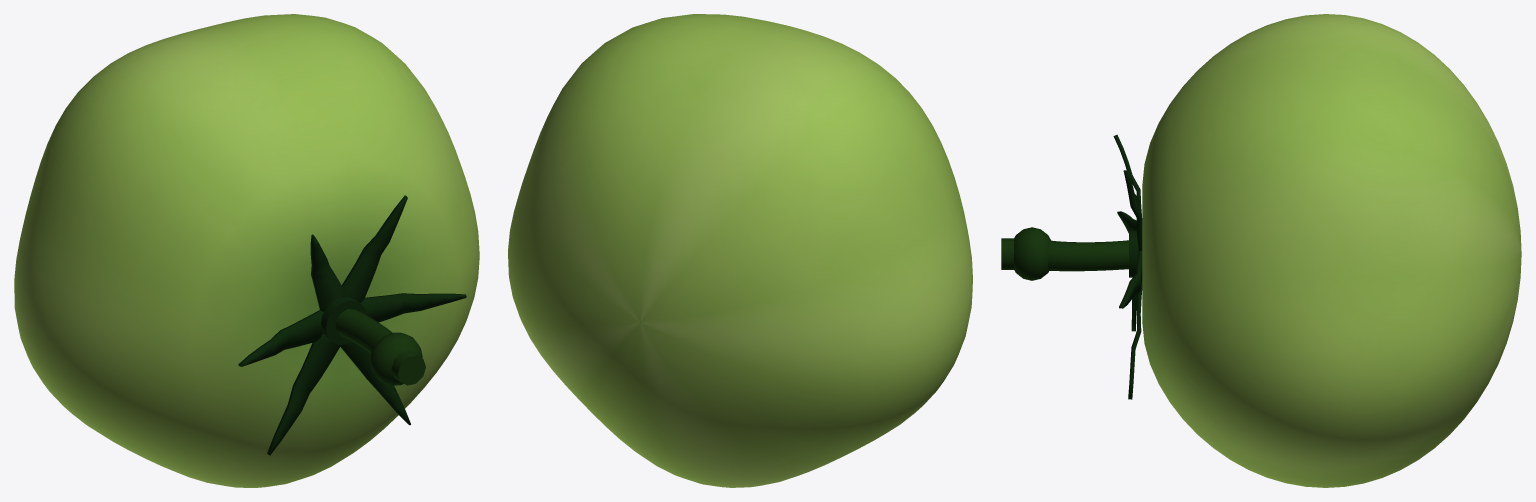
Rendered from tomato_green.obj.
The picture shows the model from 3 angles, left to right: view 1: azimuth 30°, elevation 25°; view 2: azimuth 150°, elevation 25°; view 3: azimuth 270°, elevation 25°; orthographic projection. The views are drawn at different scales.
Visible parts, largest first — view 1: tomato_green, calyx, knuckle, pedicel, calyx_hub, proximal_stub; view 2: tomato_green; view 3: tomato_green, pedicel, calyx, knuckle.
Boxes of the visible parts, bbox=[...] form: tomato_green: bbox=[14, 14, 479, 487]; calyx: bbox=[238, 195, 466, 455]; knuckle: bbox=[370, 332, 422, 385]; pedicel: bbox=[335, 309, 392, 353]; calyx_hub: bbox=[321, 297, 366, 344]; proximal_stub: bbox=[391, 350, 425, 385]; tomato_green: bbox=[508, 14, 972, 487]; tomato_green: bbox=[1142, 14, 1521, 487]; pedicel: bbox=[1048, 240, 1128, 271]; calyx: bbox=[1113, 134, 1142, 399]; knuckle: bbox=[1013, 227, 1051, 280].
Size of the model in its own units: 0.0566 by 0.056 by 0.062.
Materials: 3 (1 with a texture image).
